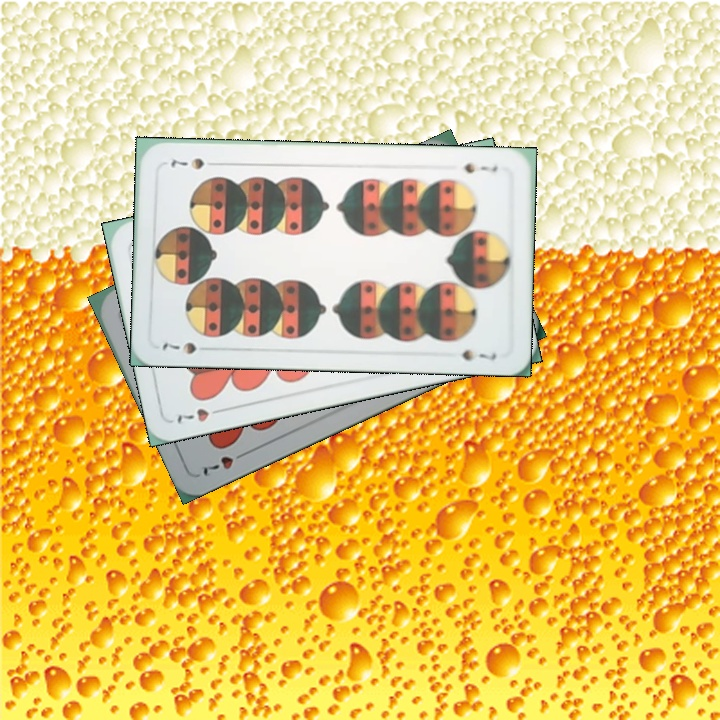H7: (199, 446, 252, 479), (173, 403, 229, 427)
S7: (158, 338, 200, 358), (459, 159, 501, 176)
